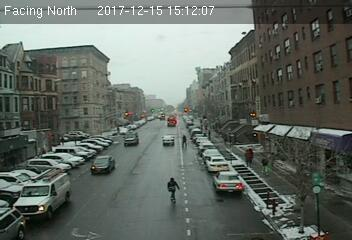car: (1, 204, 29, 240), (212, 169, 245, 195), (90, 155, 115, 174), (207, 156, 229, 171), (122, 131, 141, 146), (161, 134, 176, 147)
pedestrian: (165, 176, 182, 203), (261, 156, 269, 176), (245, 148, 253, 167), (181, 133, 188, 148)
truck: (14, 169, 73, 220)
